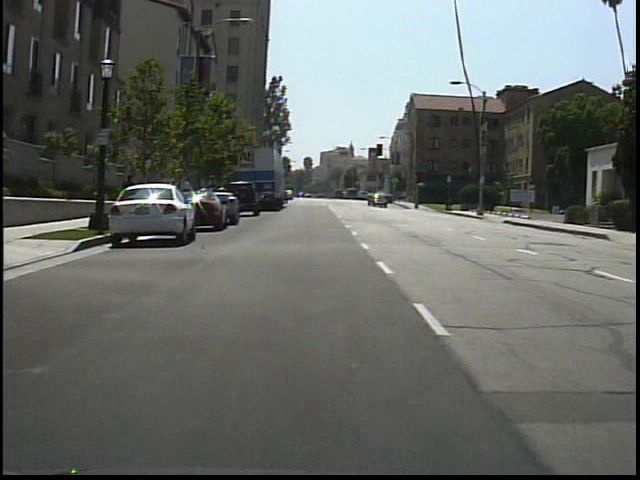person: (121, 167, 140, 219)
